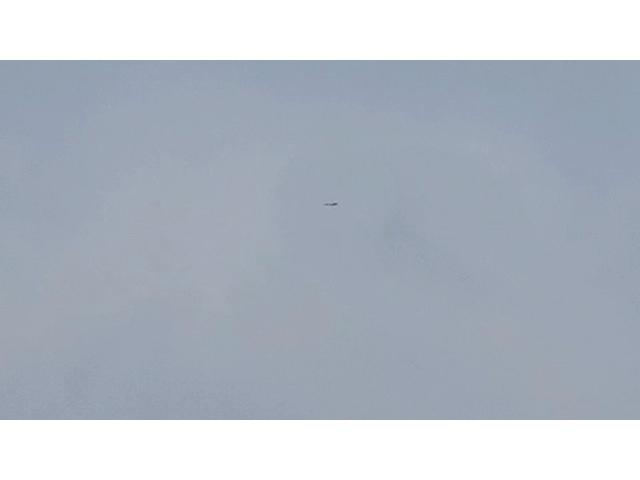Anti-Drone: (323, 200, 339, 208)
